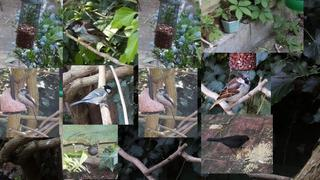blackbird: (206, 134, 253, 156)
great tit: (69, 85, 114, 108)
long tailed tit: (156, 88, 178, 130), (18, 88, 39, 130)
sparrow: (64, 20, 118, 54), (208, 73, 251, 111), (85, 145, 98, 157)
